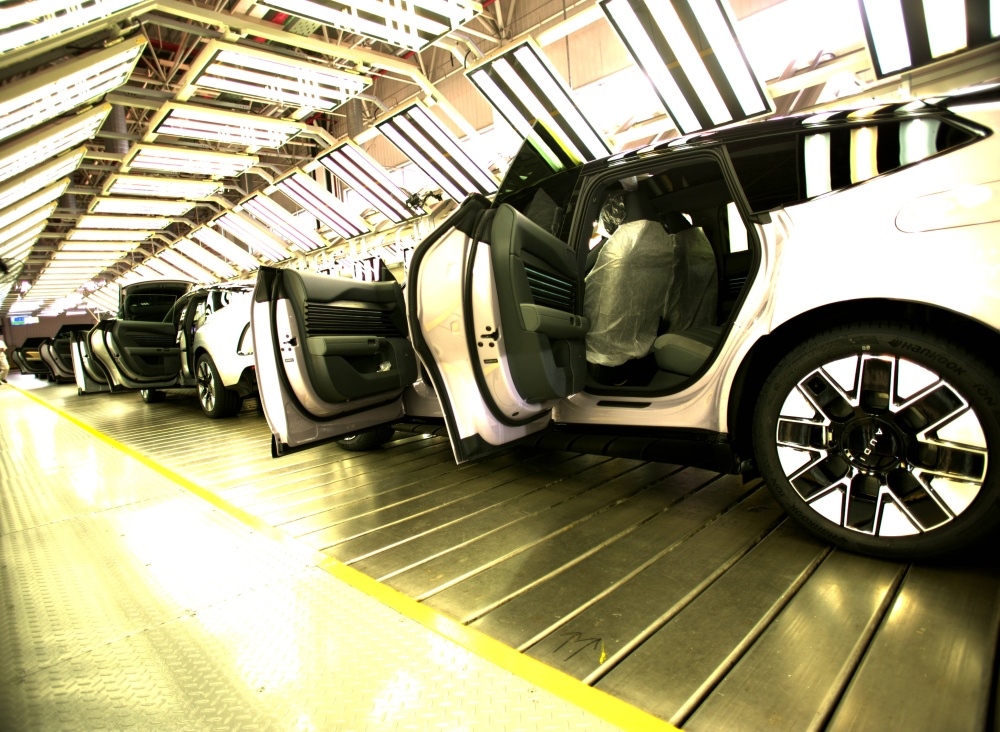armrest_color: (518, 302, 590, 336), (307, 333, 397, 356)
panel_color: (305, 295, 392, 333), (522, 259, 580, 313)
